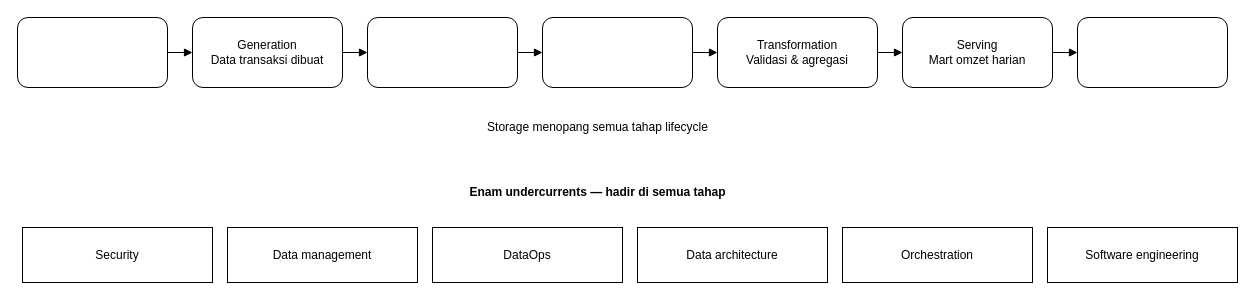
The diagram is 1255 pixels wide and 300 high, and some of its shapes have lost their labels. Each missing label, with the box of its shape:
Ingestion Ambil data sumber: (542, 16, 692, 88)
Pengguna Pemilik • Analis: (1076, 16, 1228, 88)
Storage PostgreSQL / MinIO: (366, 16, 518, 88)
Sumber data Toko • Web • Marketplace: (16, 16, 168, 88)
